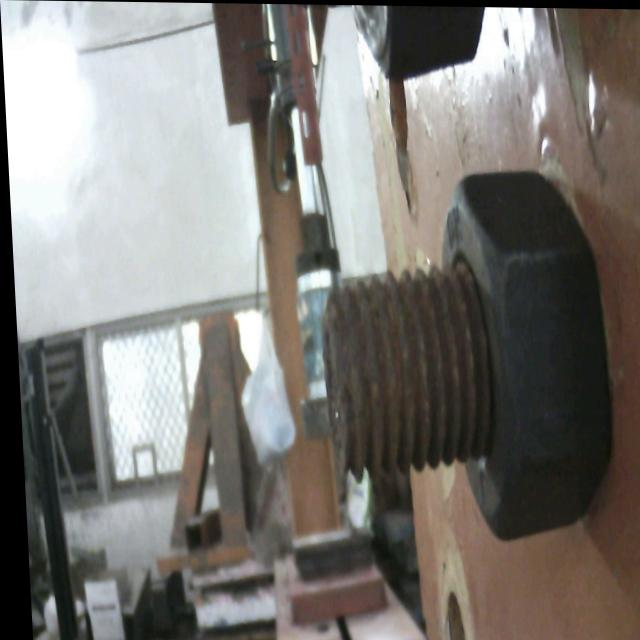Missing bolt: (435, 584, 462, 640)
Rusty bolt: (317, 164, 620, 508)
